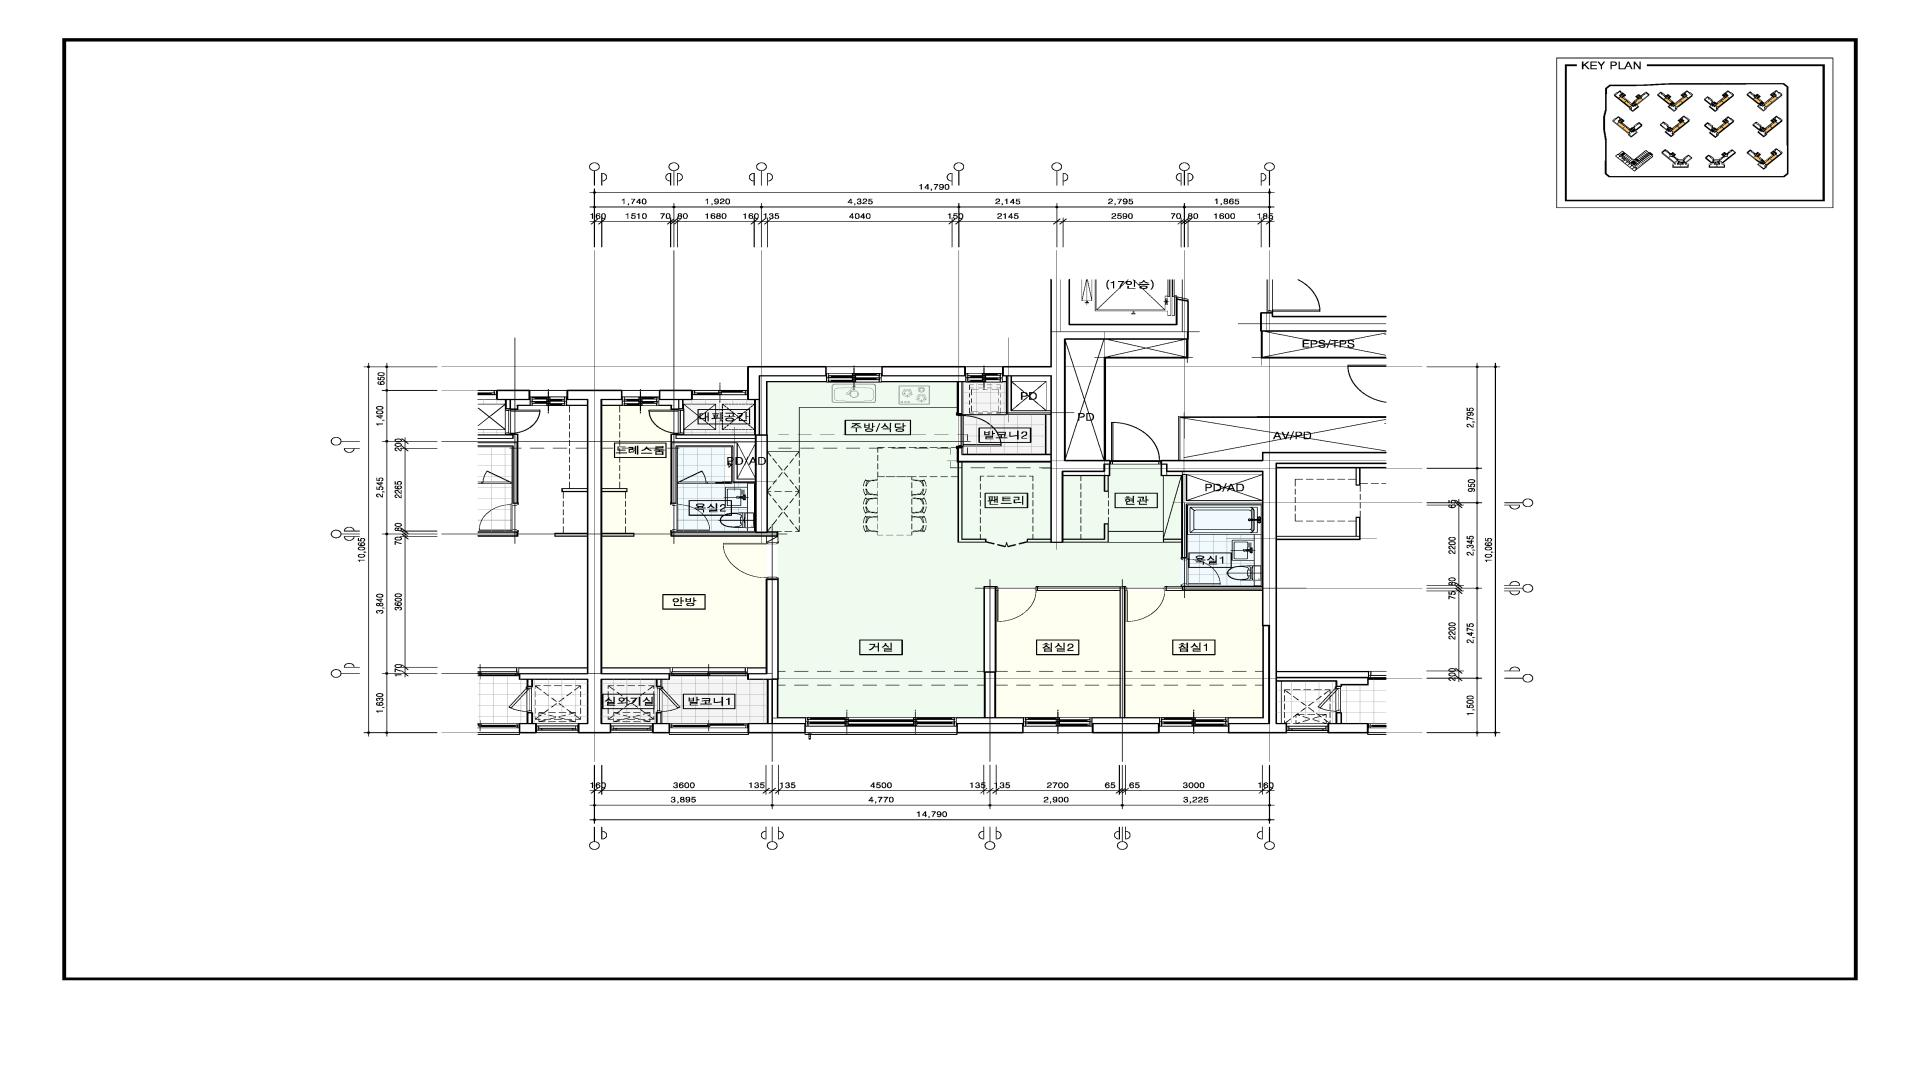door: (723, 542, 779, 579), (1112, 422, 1160, 464), (956, 413, 1002, 448), (1125, 585, 1166, 622), (997, 585, 1036, 622), (1180, 558, 1221, 585), (670, 504, 709, 531), (649, 409, 684, 434), (657, 687, 680, 712), (986, 538, 1027, 549), (678, 471, 707, 484)
wall: (1160, 460, 1278, 733), (587, 389, 670, 733), (1002, 365, 1112, 543), (670, 400, 778, 542), (1036, 585, 1125, 717), (956, 448, 1050, 543), (1180, 473, 1262, 559), (746, 579, 779, 723), (746, 365, 825, 401), (984, 585, 997, 717), (1006, 377, 1050, 415), (1063, 524, 1109, 543), (881, 365, 965, 376), (1092, 723, 1159, 733), (957, 723, 1023, 733), (749, 723, 804, 733), (1166, 585, 1262, 591), (659, 389, 692, 400), (956, 381, 963, 413), (653, 723, 669, 733), (1027, 538, 1051, 543), (603, 533, 634, 537), (603, 488, 628, 492), (1104, 476, 1109, 492), (678, 400, 683, 409)
window: (804, 717, 957, 735), (1159, 717, 1229, 733), (1023, 717, 1092, 733), (670, 667, 746, 680), (669, 723, 749, 735), (825, 367, 882, 382), (965, 367, 1002, 382), (622, 390, 659, 406), (692, 390, 746, 400), (611, 723, 653, 733)
